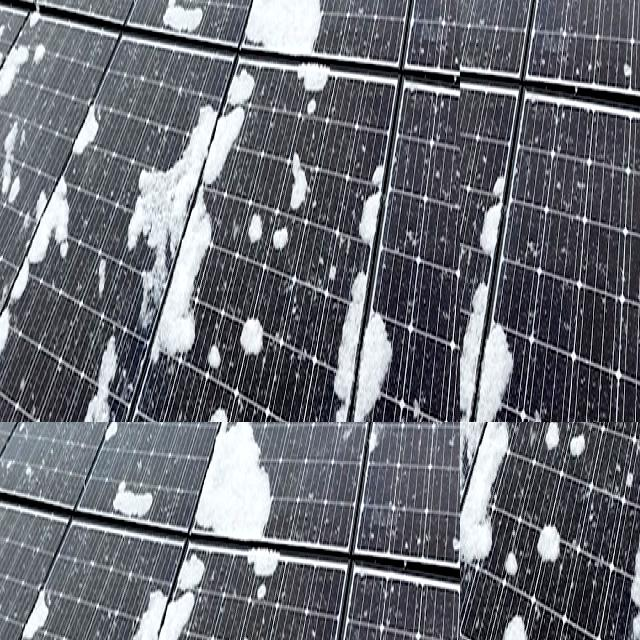crack: (0, 441, 23, 554), (0, 422, 23, 469)
panel: (460, 422, 552, 589), (536, 422, 630, 522), (502, 519, 560, 640), (545, 422, 603, 519), (460, 518, 502, 640), (460, 422, 490, 525), (460, 422, 505, 485), (460, 422, 496, 486), (460, 422, 483, 520), (460, 523, 478, 640), (460, 422, 491, 486), (460, 422, 503, 456), (460, 422, 479, 494), (460, 422, 483, 475), (460, 422, 482, 476), (460, 37, 473, 110), (460, 81, 477, 125), (460, 0, 470, 56), (460, 0, 481, 26), (460, 0, 477, 32), (460, 75, 476, 108), (460, 22, 480, 45), (460, 69, 472, 106), (460, 447, 469, 495), (460, 0, 476, 23), (460, 0, 470, 31), (460, 79, 469, 111), (460, 11, 469, 42), (460, 0, 468, 33), (460, 422, 471, 446), (460, 0, 473, 18), (460, 0, 469, 16), (460, 0, 465, 25), (460, 0, 466, 13)
